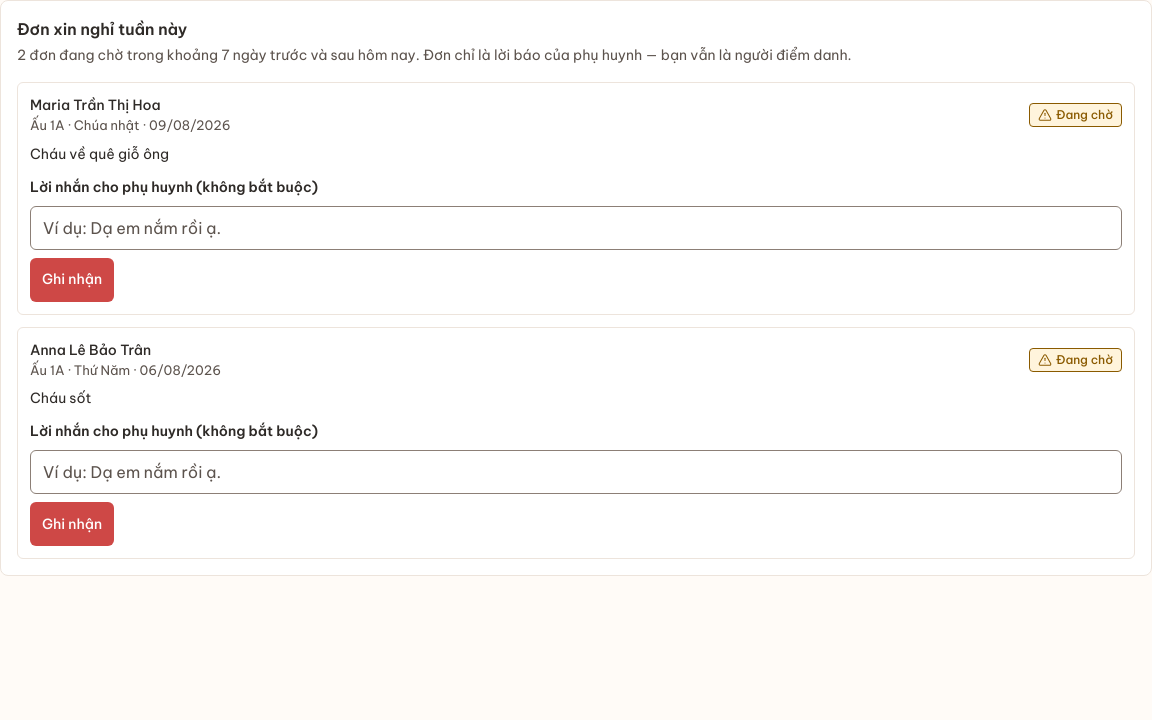
Test: AC-F13-2 — ghi nhận đơn › action hỏng thì hiện đúng câu của server, không báo thành công
This screenshot has width=1152, height=720.
Click the button "Ghi nhận" below "Cháu về quê giỗ ông": (72, 280) 30,258 -> 114,302
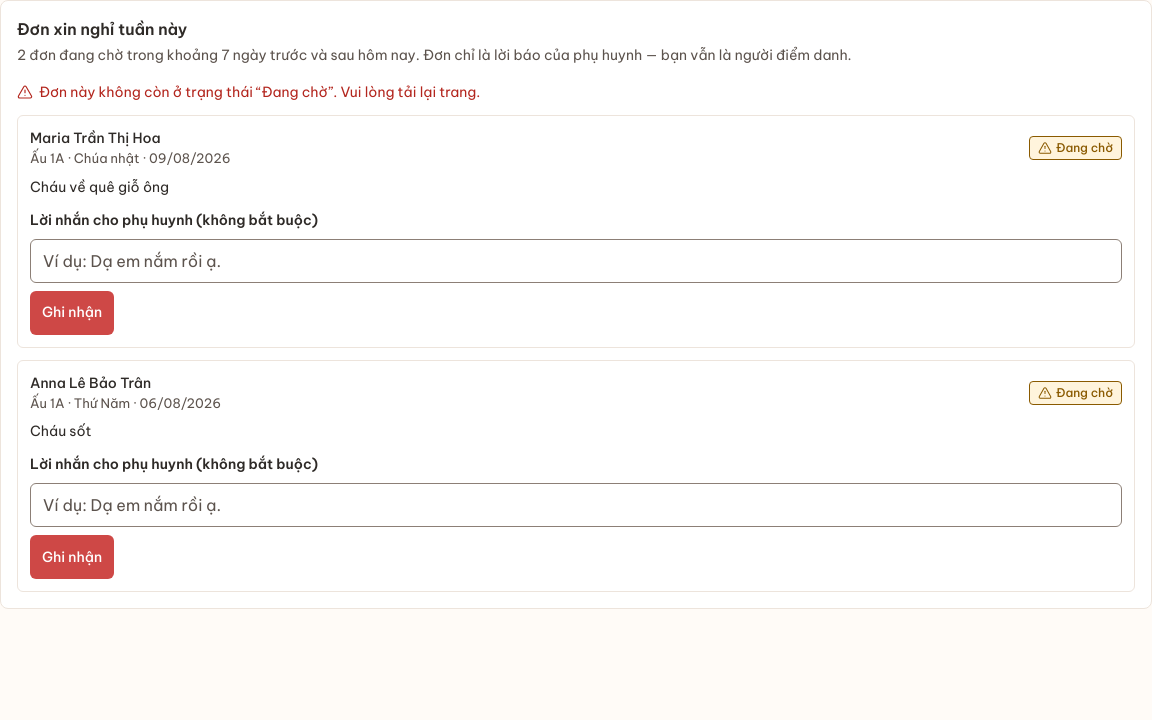
Now the text "không còn ở trạng thái" is shown, box 39,83 -> 480,101
